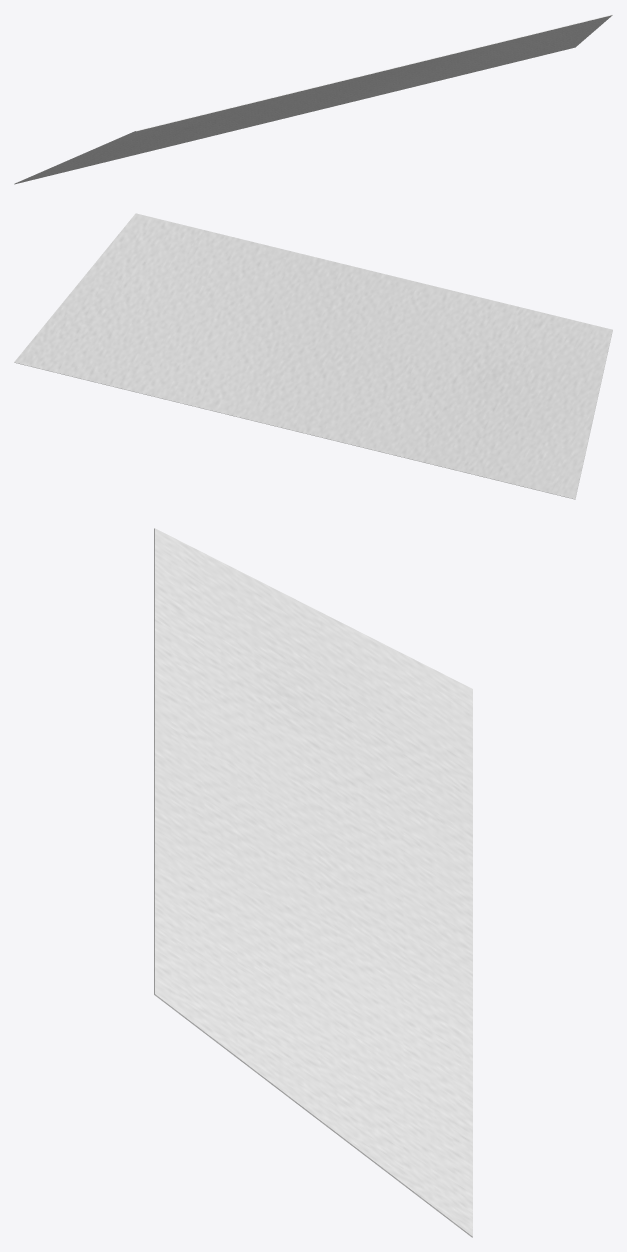
Rendered from EnvelopeFlap-CTcvXNEW.glb.
3 renders of one model, top to bottom at view 1: azimuth 30°, elevation 25°; view 2: azimuth 150°, elevation 25°; view 3: azimuth 270°, elevation 25°, orthographic. The views are drawn at different scales.
Parts seen in each view (by area): view 1: grid1; view 2: grid1; view 3: grid1.
Boxes of the visible parts, left/top/right/bottom form: grid1: left=14, top=14, right=612, bottom=184; grid1: left=14, top=213, right=612, bottom=499; grid1: left=154, top=528, right=472, bottom=1237.
Bounding box in the file's own units: 1 × 0.1729 × 0.2463.
Materials: 2 (2 with a texture image).
